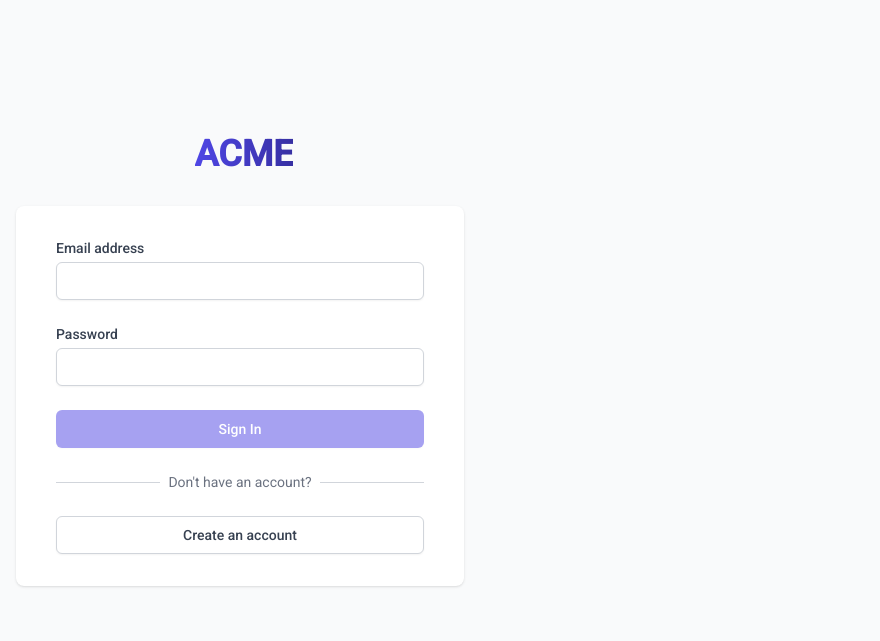
Sign In › Authentication Flow › should handle invalid credentials
Type "invalid@example.com" into the field named "email" at (240, 281), box [56,262,424,300]
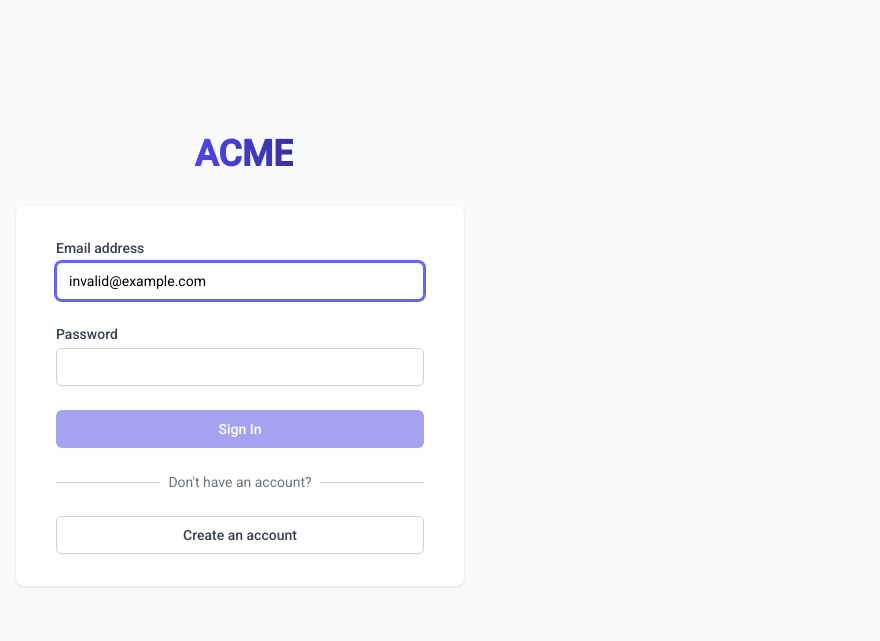
Type "wrongpassword" into the password field named "password" at (240, 367), box [56,348,424,386]
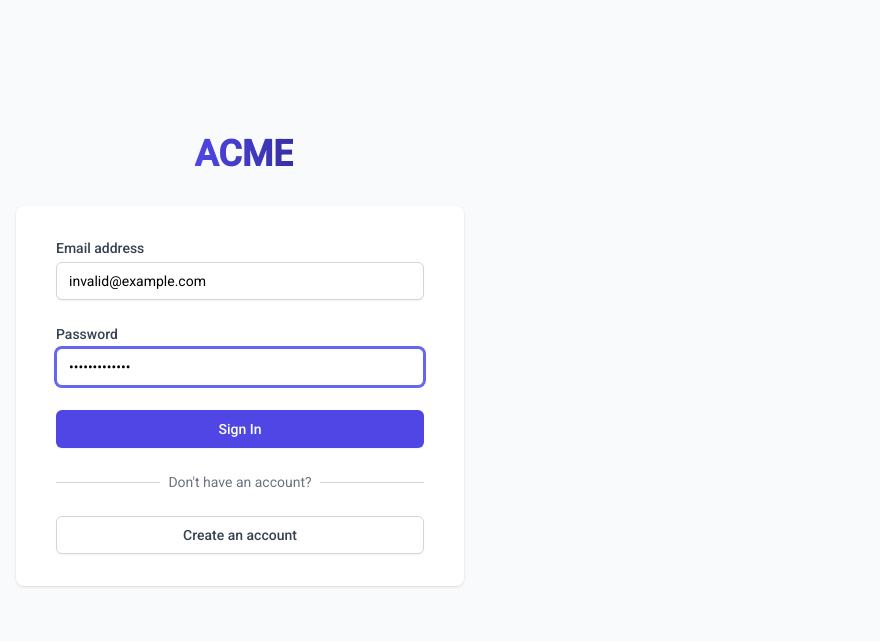
Click the submit button at (240, 429), box [56,410,424,448]
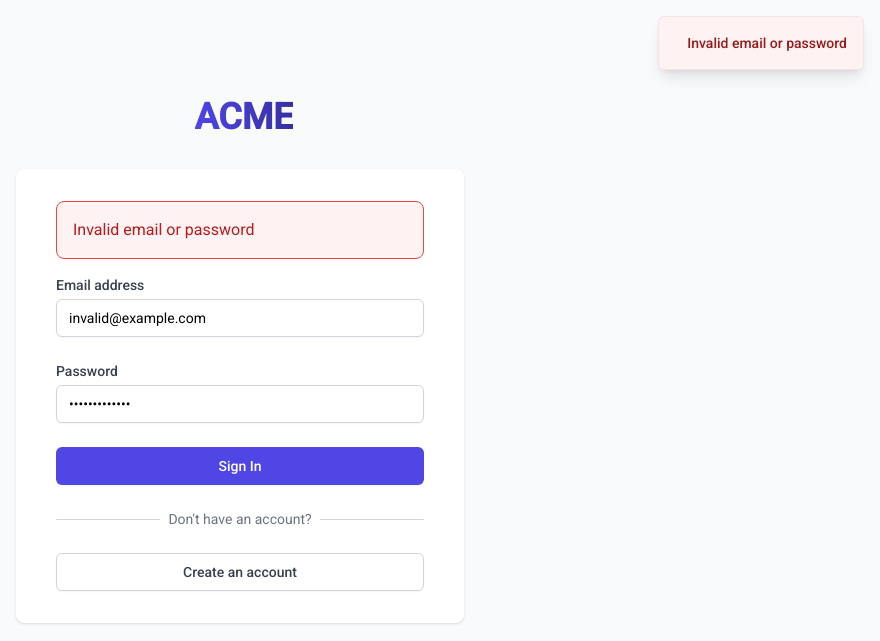
Expected: the message "Invalid email or password" is shown, [56,201,424,259]
